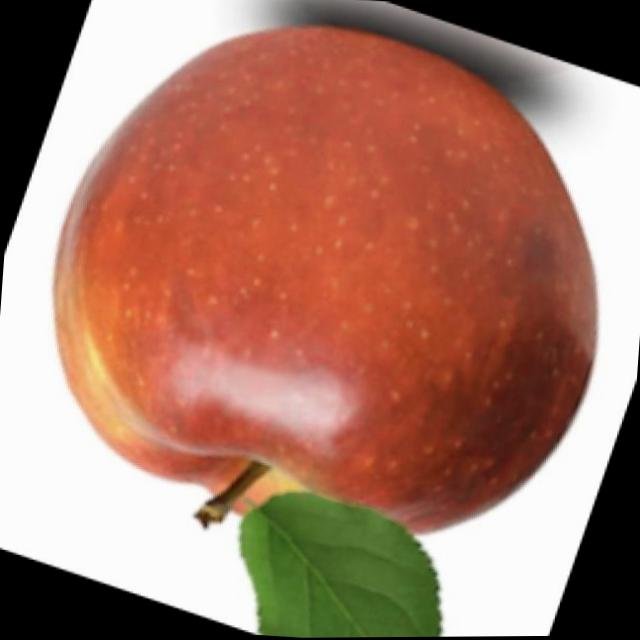Apple: (34, 4, 618, 557)
